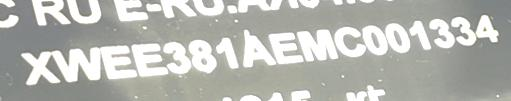letter: (50, 46, 102, 83), (19, 50, 63, 85), (129, 42, 170, 77), (296, 29, 339, 62), (266, 32, 304, 65), (100, 44, 138, 77), (241, 33, 278, 66), (186, 38, 217, 75), (333, 25, 367, 56), (162, 40, 192, 73), (214, 36, 241, 71), (427, 18, 455, 50), (361, 24, 388, 57), (384, 21, 411, 52), (450, 16, 477, 46), (476, 13, 501, 45), (408, 19, 432, 50)
